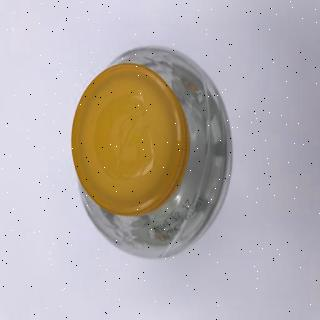Plastic-bottle: (71, 46, 235, 263)
